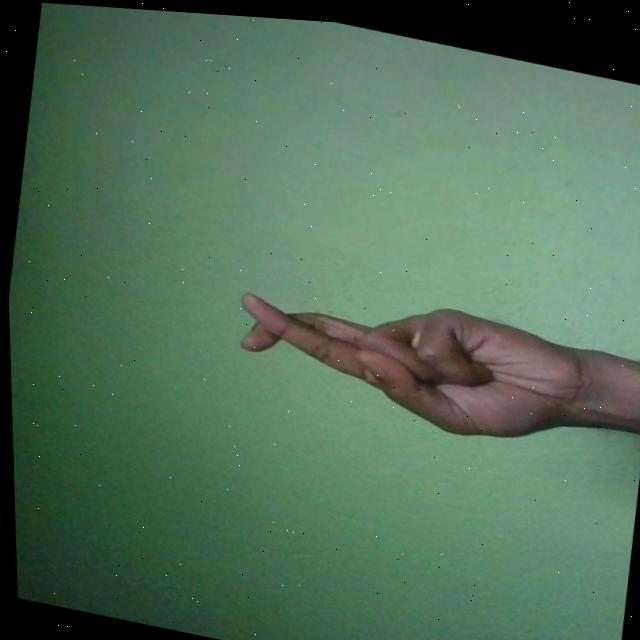Good Luck: (226, 261, 597, 452)
